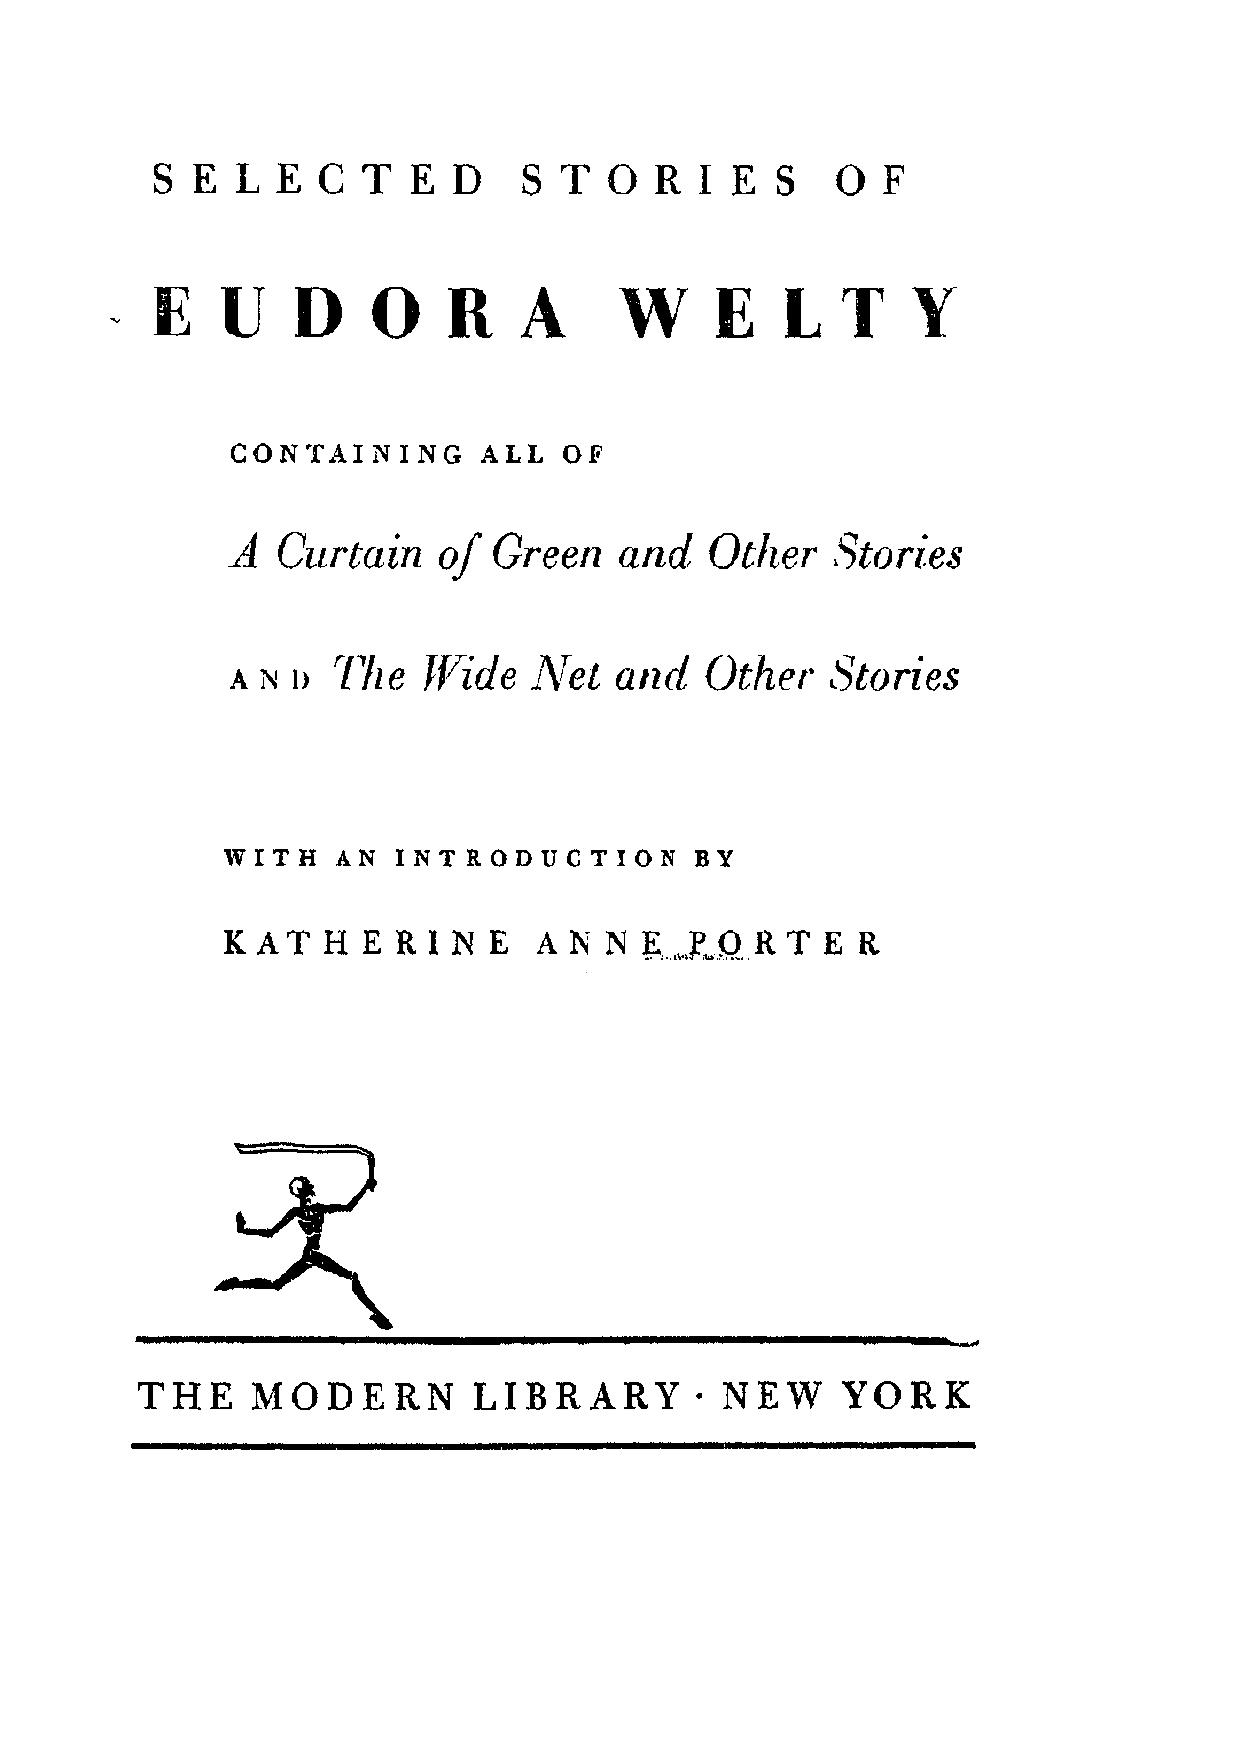author: (217, 923, 884, 960)
title: (152, 160, 960, 337)
